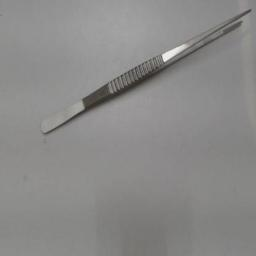DeBakey Dissector: (34, 4, 252, 146)
